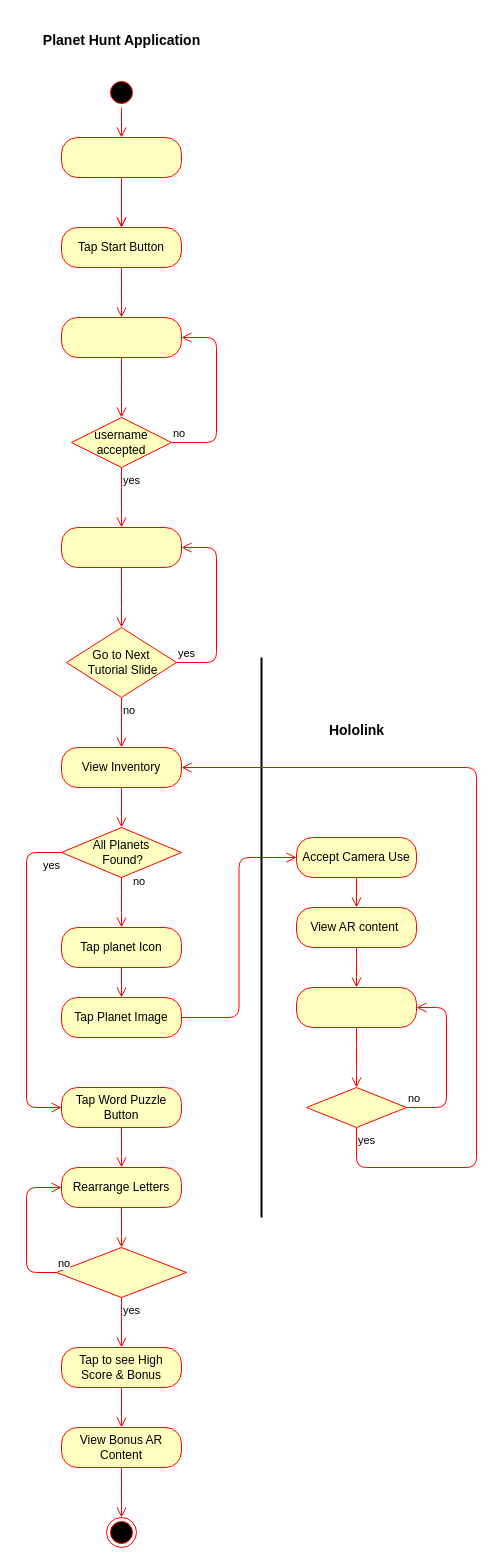
This 504x1565 diagram has some shape labels left out. The shapes that lost their labels are listed below. From the top down, each one's box as (x1, y1, x2, y2) in pixels, then its label:
(60, 136, 182, 178): Open Planet Hunt
(60, 316, 182, 358): Input Username
(60, 526, 182, 568): View Tutorial
(296, 986, 416, 1028): Answer Question
(306, 1086, 406, 1128): Answer Correct?
(56, 1246, 186, 1298): Combination Correct
